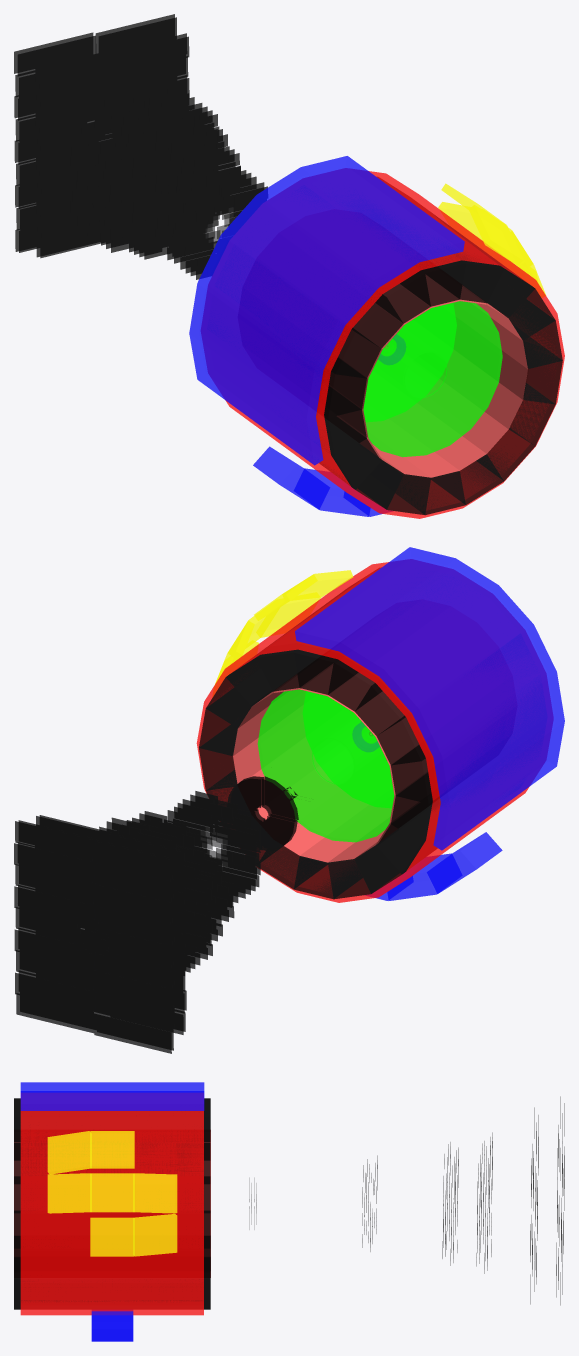
File: aliceGeom.dae
The picture shows the model from 3 angles, top to bottom: view 1: azimuth 30°, elevation 25°; view 2: azimuth 150°, elevation 25°; view 3: azimuth 270°, elevation 25°; orthographic projection. The views are drawn at different scales.
Parts seen in each view (by area): view 1: MAIN_GentleGeometry_TRD+TOF, EMCAL, MAIN_GentleGeometry_TPC_TPC_M_1_TPC_Drift_1_geom, MAIN_GentleGeometry_TPC_TPC_M_1_TPC_Drift_1_TPC_HVMEM_1_TPC_, MAIN_GentleGeometry_PHOS, MAIN_GentleGeometry_HMPID, MUON_ALIC_1_YOUT2_1_SC13_1_S2L9_1_SC3A_240_SB3A_1, MUON_ALIC_1_YOUT2_1_SC14_1_S3L9_1_SC4A_240_SB4A_1, MUON_ALIC_1_YOUT2_1_SC14_1_S3R9_1_SC4A_238_SB4A_1, MUON_ALIC_1_YOUT2_1_SC13_1_S2R9_1_SC3A_238_SB3A_1, MUON_ALIC_1_YOUT2_1_SC11_1_S0L8_1_SC1A_176_SB1A_1, MUON_ALIC_1_YOUT2_1_SC11_1_S0R9_1_SC1A_238_SB1A_1 (+18 smaller); view 2: MAIN_GentleGeometry_TRD+TOF, EMCAL, MAIN_GentleGeometry_TPC_TPC_M_1_TPC_Drift_1_geom, MAIN_GentleGeometry_TPC_TPC_M_1_TPC_Drift_1_TPC_HVMEM_1_TPC_, MAIN_GentleGeometry_HMPID, MAIN_GentleGeometry_PHOS, MUON_ALIC_1_YOUT2_1_SC14_1_S3L3_1_SC4A_111_SB4A_1, MUON_ALIC_1_YOUT2_1_SC14_1_S3L9_1_SC4A_240_SB4A_1, MUON_ALIC_1_YOUT2_1_SC14_1_S3L1_1_SC4A_239_SB4A_1, MUON_ALIC_1_YOUT2_1_SC14_1_S3R2_1_SC4A_173_SB4A_1, MUON_ALIC_1_YOUT2_1_SC14_1_S3R9_1_SC4A_238_SB4A_1, MUON_ALIC_1_YOUT2_1_SC14_1_S3L7_1_SC4A_112_SB4A_1 (+40 smaller); view 3: MAIN_GentleGeometry_TRD+TOF, MAIN_GentleGeometry_HMPID, EMCAL, MAIN_GentleGeometry_PHOS.
Boxes of the visible parts, x1,y1,x2,y2 form: MAIN_GentleGeometry_TRD+TOF: [201, 168, 564, 518]; EMCAL: [189, 156, 464, 465]; MAIN_GentleGeometry_TPC_TPC_M_1_TPC_Drift_1_geom: [363, 301, 502, 457]; MAIN_GentleGeometry_TPC_TPC_M_1_TPC_Drift_1_TPC_HVMEM_1_TPC_: [363, 303, 454, 420]; MAIN_GentleGeometry_PHOS: [253, 446, 391, 516]; MAIN_GentleGeometry_HMPID: [438, 183, 545, 297]; MUON_ALIC_1_YOUT2_1_SC13_1_S2L9_1_SC3A_240_SB3A_1: [17, 35, 96, 76]; MUON_ALIC_1_YOUT2_1_SC14_1_S3L9_1_SC4A_240_SB4A_1: [14, 32, 93, 73]; MUON_ALIC_1_YOUT2_1_SC14_1_S3R9_1_SC4A_238_SB4A_1: [95, 14, 174, 54]; MUON_ALIC_1_YOUT2_1_SC13_1_S2R9_1_SC3A_238_SB3A_1: [98, 17, 176, 55]; MUON_ALIC_1_YOUT2_1_SC11_1_S0L8_1_SC1A_176_SB1A_1: [40, 75, 114, 113]; MUON_ALIC_1_YOUT2_1_SC11_1_S0R9_1_SC1A_238_SB1A_1: [115, 36, 189, 74]; MAIN_GentleGeometry_TRD+TOF: [196, 559, 552, 902]; EMCAL: [295, 547, 564, 850]; MAIN_GentleGeometry_TPC_TPC_M_1_TPC_Drift_1_geom: [257, 689, 394, 842]; MAIN_GentleGeometry_TPC_TPC_M_1_TPC_Drift_1_TPC_HVMEM_1_TPC_: [304, 692, 393, 806]; MAIN_GentleGeometry_HMPID: [213, 570, 353, 695]; MAIN_GentleGeometry_PHOS: [366, 832, 502, 900]; MUON_ALIC_1_YOUT2_1_SC14_1_S3L3_1_SC4A_111_SB4A_1: [93, 970, 171, 1010]; MUON_ALIC_1_YOUT2_1_SC14_1_S3L9_1_SC4A_240_SB4A_1: [92, 841, 170, 881]; MUON_ALIC_1_YOUT2_1_SC14_1_S3L1_1_SC4A_239_SB4A_1: [94, 1013, 171, 1053]; MUON_ALIC_1_YOUT2_1_SC14_1_S3R2_1_SC4A_173_SB4A_1: [15, 972, 92, 1012]; MUON_ALIC_1_YOUT2_1_SC14_1_S3R9_1_SC4A_238_SB4A_1: [15, 821, 92, 861]; MUON_ALIC_1_YOUT2_1_SC14_1_S3L7_1_SC4A_112_SB4A_1: [93, 884, 170, 924]; MAIN_GentleGeometry_TRD+TOF: [14, 1093, 210, 1315]; MAIN_GentleGeometry_HMPID: [47, 1131, 177, 1256]; EMCAL: [20, 1082, 204, 1110]; MAIN_GentleGeometry_PHOS: [91, 1310, 133, 1341].
Bounding box in the file's own units: 973 × 979 × 2105.
